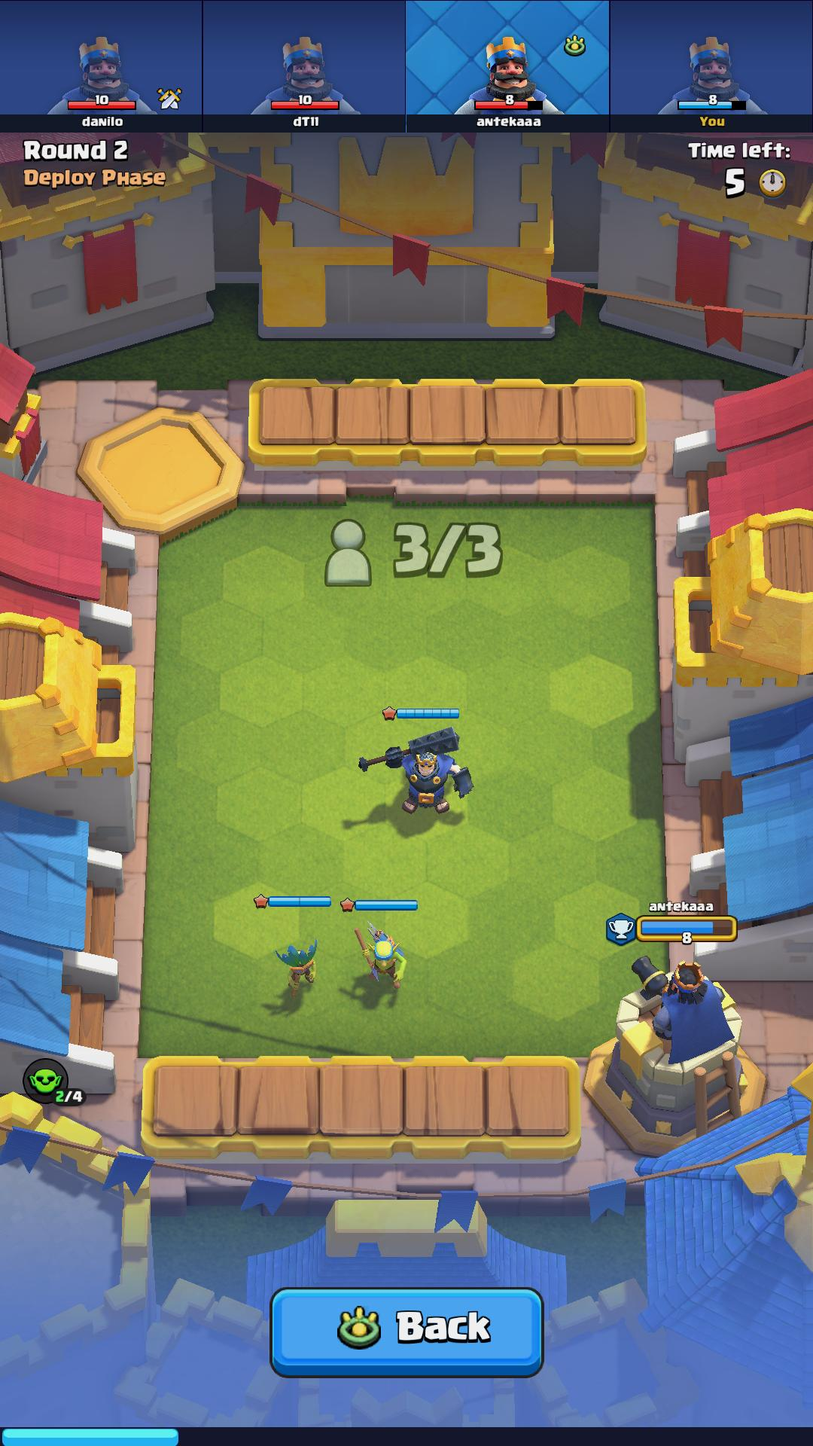dart: (280, 938, 321, 995)
king: (386, 726, 476, 821)
spear: (355, 920, 409, 990)
